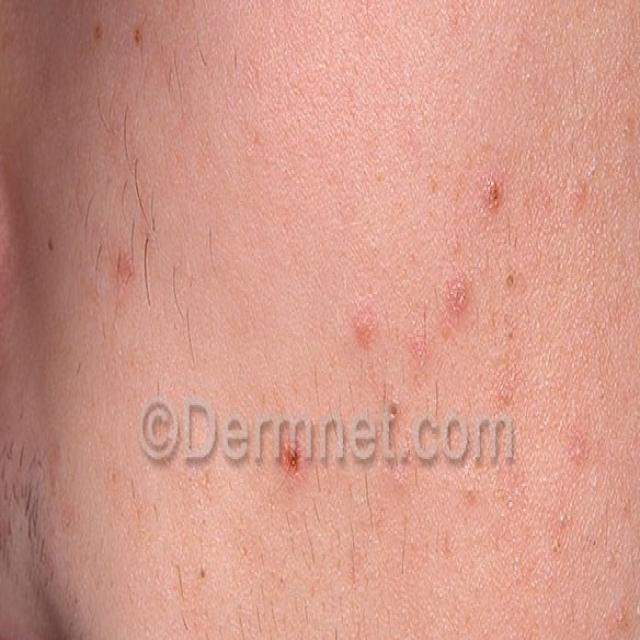Acne: (295, 194, 640, 472), (36, 179, 173, 334), (57, 0, 193, 74), (283, 377, 322, 531)
